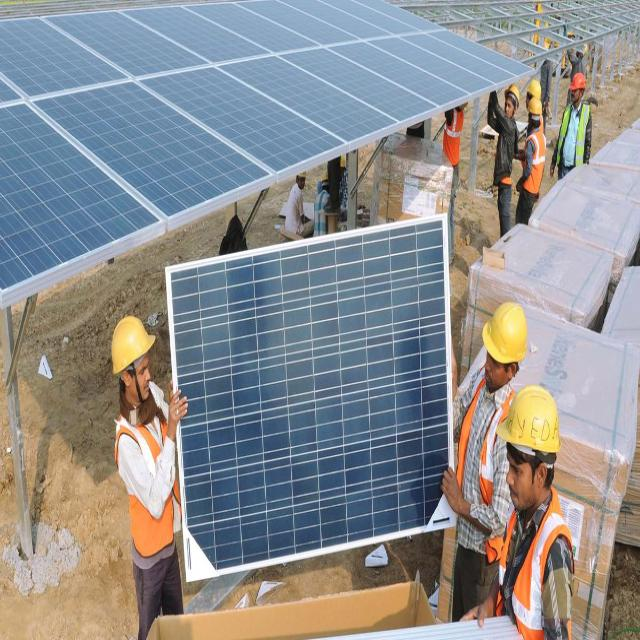clean-solar-panel: (0, 0, 528, 305), (166, 214, 452, 579)
